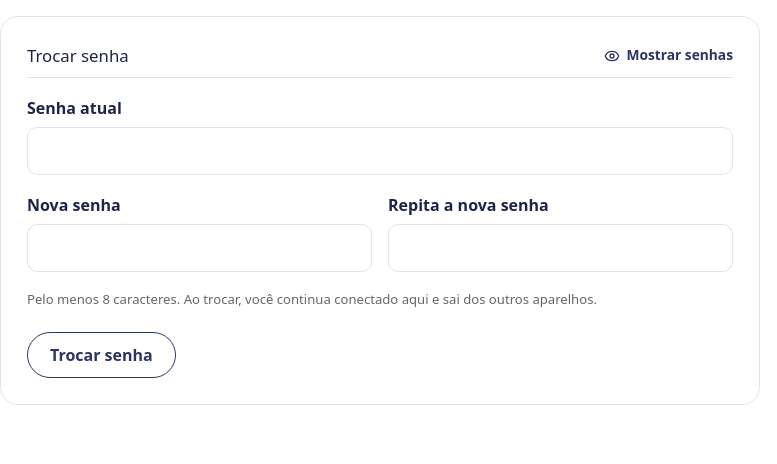
Scenario: trocar senha na Minha conta › não envia se a confirmação for diferente
Type "SenhaAntiga1" into the password field labelled "Senha atual" at coordinates (380, 151), box [27, 127, 733, 175]
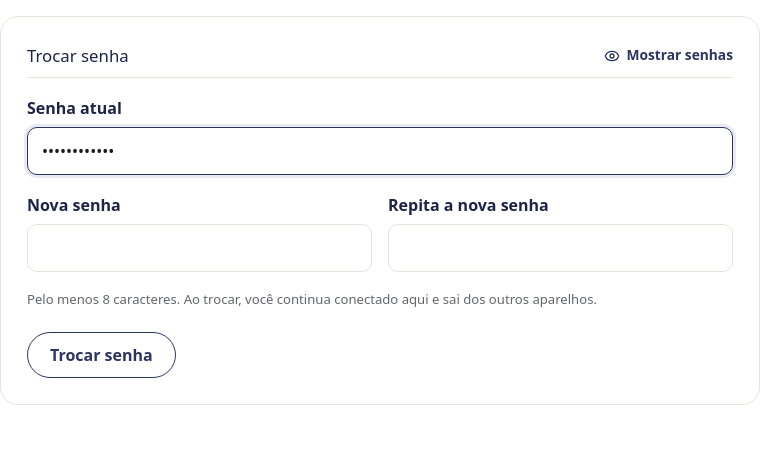
Type "NovaSenha2026" into the password field labelled "Nova senha" at coordinates (200, 248), box [27, 224, 372, 272]
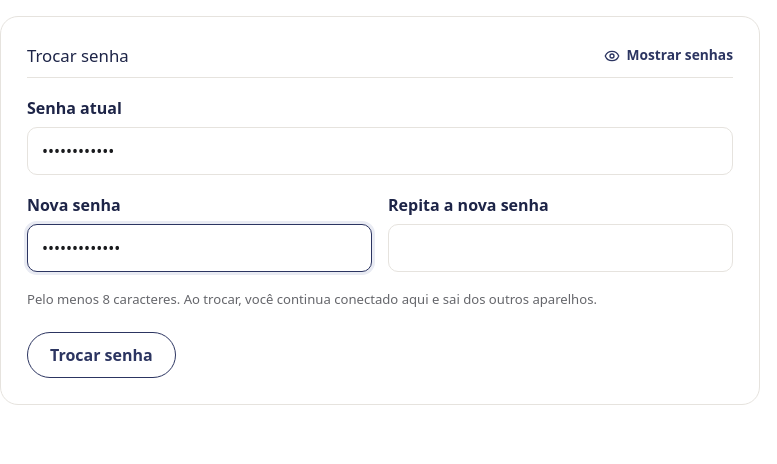
Type "OutraSenha2026" into the password field labelled "Repita a nova senha" at coordinates (560, 248), box [388, 224, 733, 272]
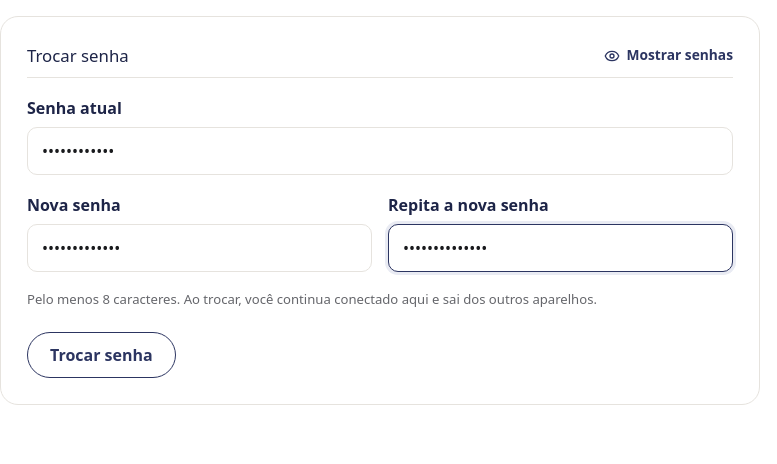
Click the button "Trocar senha" at coordinates (101, 355), box [27, 332, 176, 378]
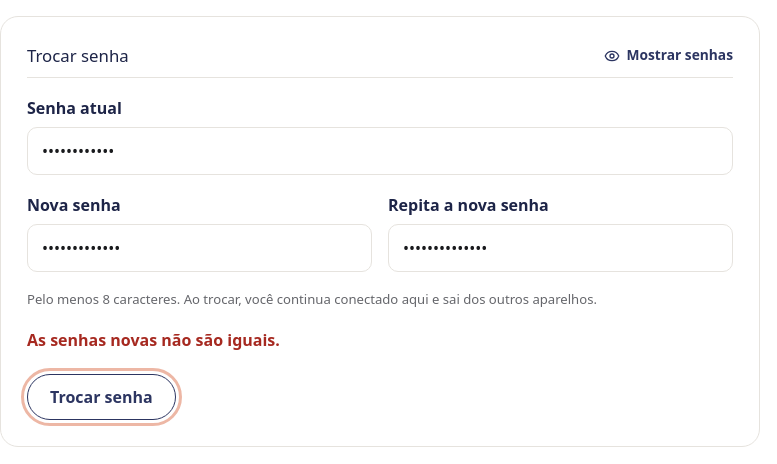
Expected: the message reads "As senhas novas não são iguais.", [27, 329, 280, 351]
